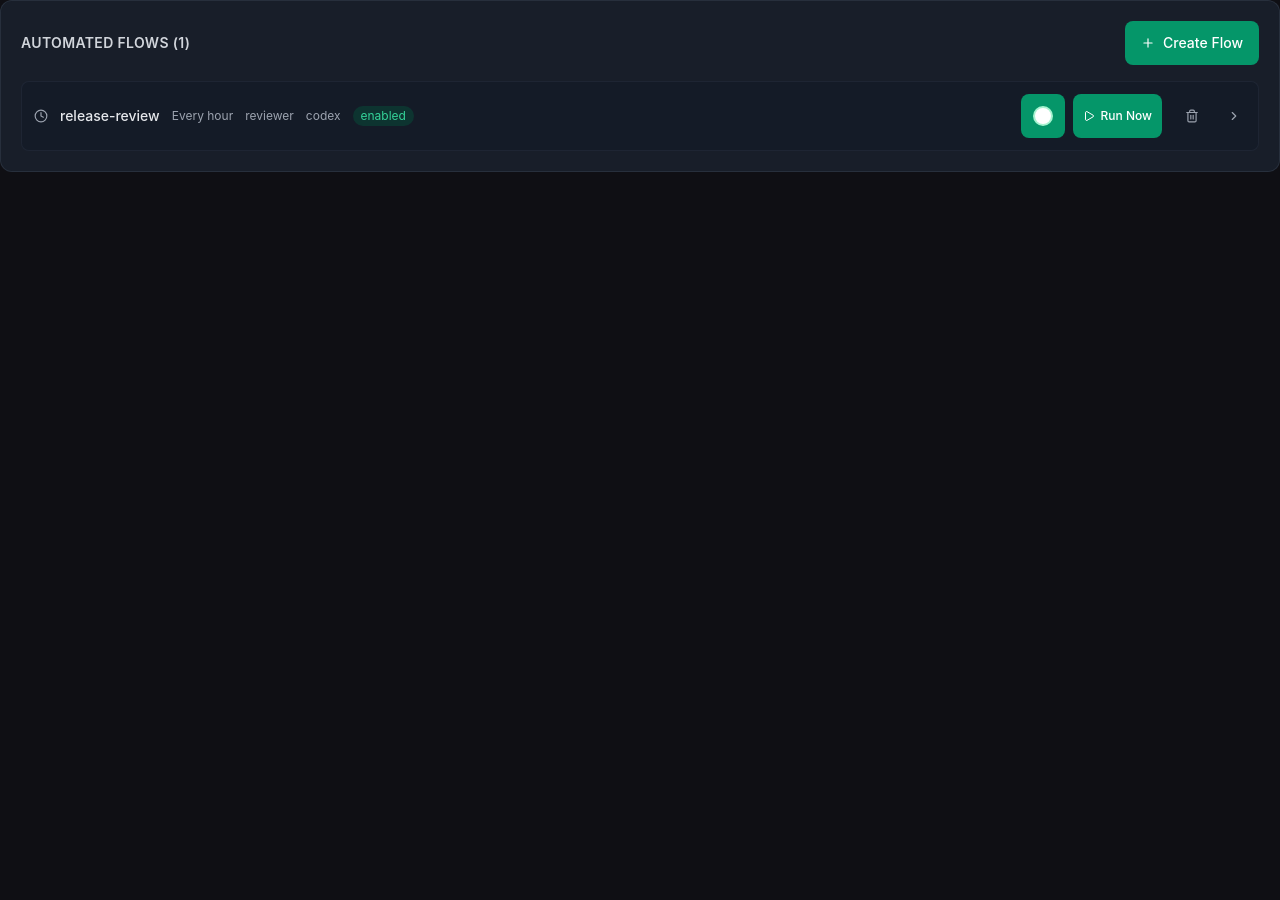
it: operational request ownership › exposes Flow details and the create dialog to keyboard semantics
Click the button "release-review Every hour reviewer codex enabled" at (110, 116), box x1=34 y1=106 x2=996 y2=126
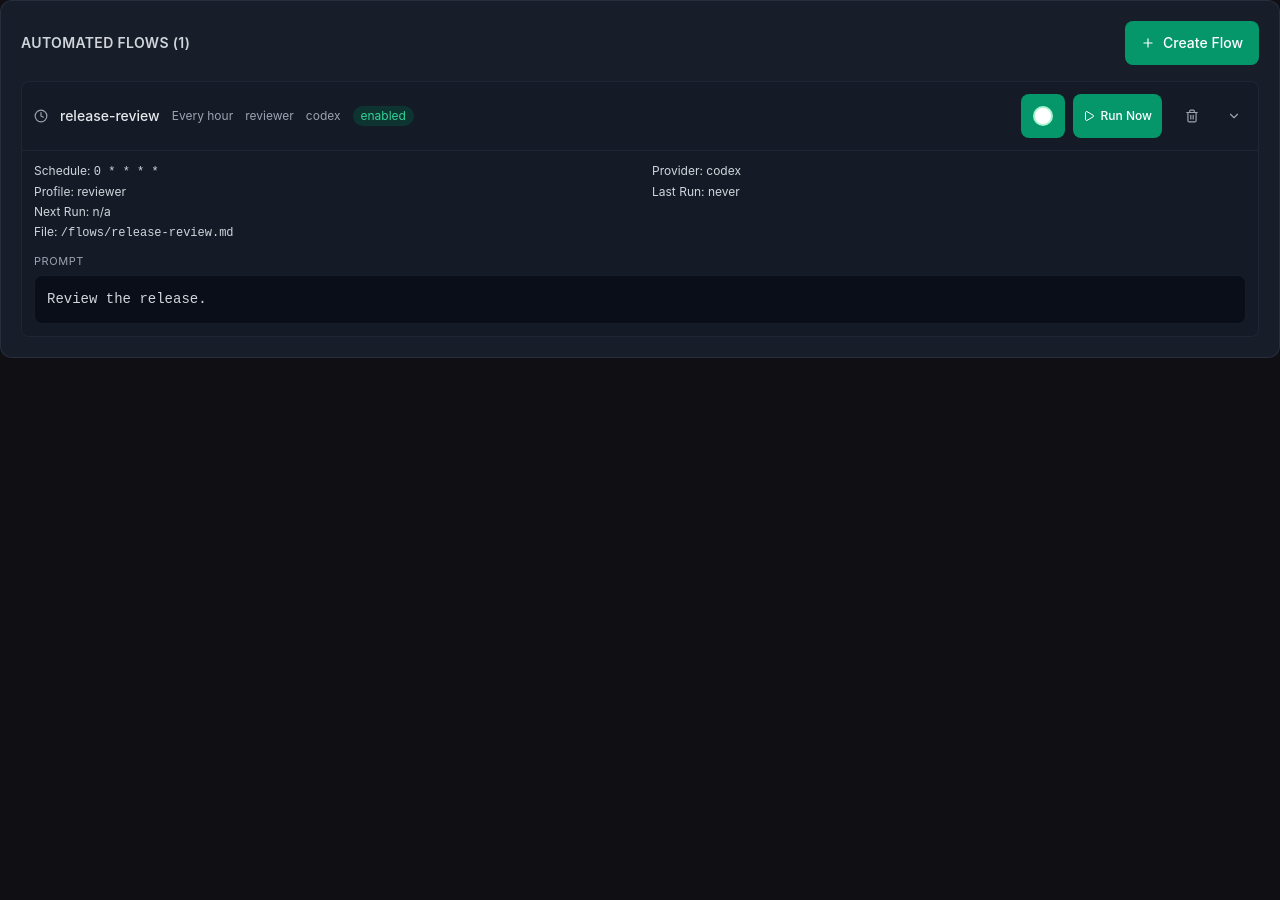
Now the text "Review the release." is shown, box x1=34 y1=275 x2=1246 y2=324
Click the button "Create Flow" at (1192, 43), box x1=1125 y1=21 x2=1259 y2=65
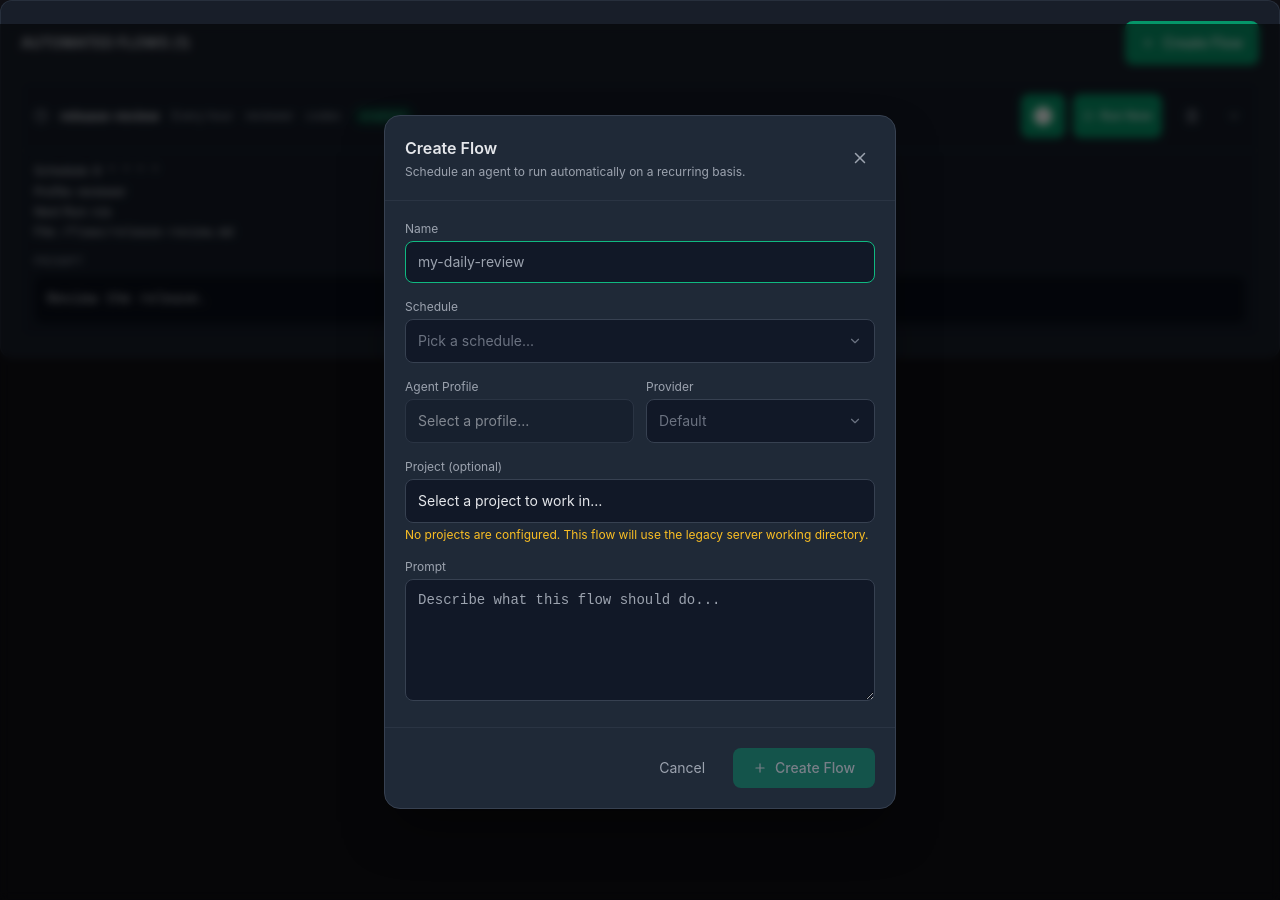
Now the dialog "Create Flow" is shown, box x1=384 y1=115 x2=896 y2=809
Press Escape
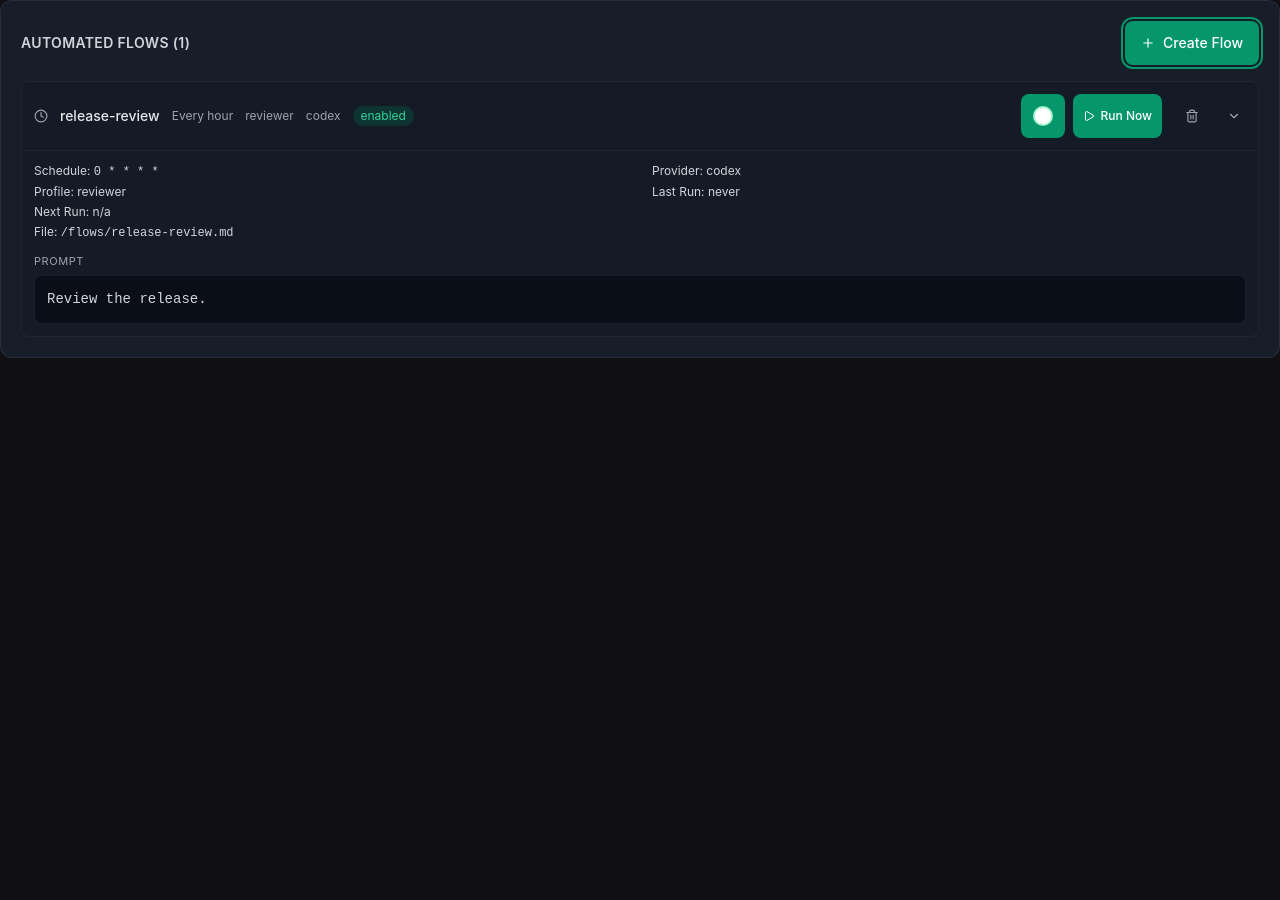
Now the dialog is gone
